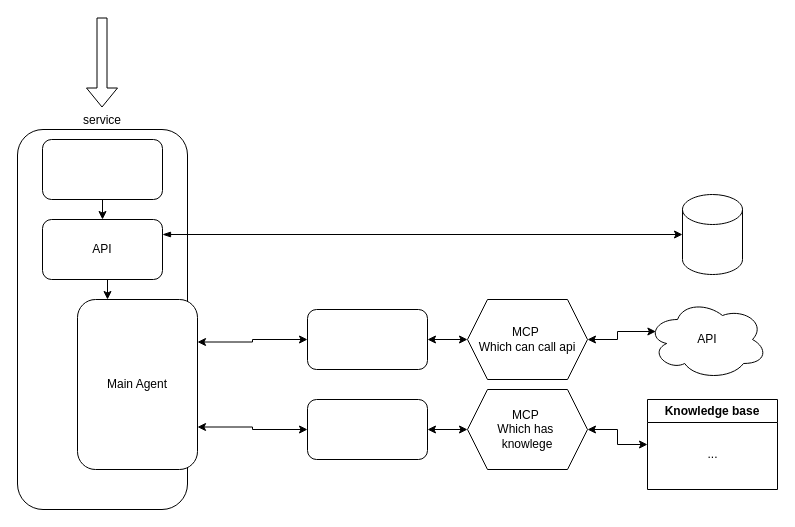
Some shapes in this 795 by 527 pixel diagram are drawn without their labels. Each missing label, with the centre of its shape:
"Agent Consultant" belongs at (367,339).
"Agent Support" belongs at (367,429).
"CHAT" belongs at (102,169).
"DB" belongs at (712,234).
